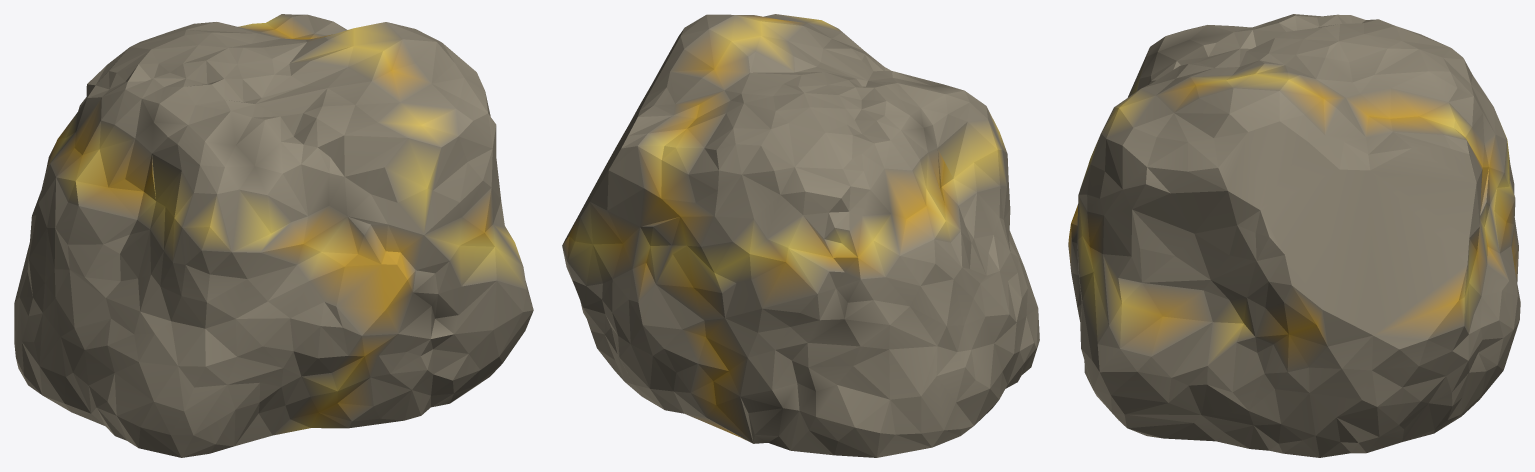
The model's file is goldore.glb.
3 views of the same model, side by side, from view 1: azimuth 30°, elevation 25°; view 2: azimuth 150°, elevation 25°; view 3: azimuth 270°, elevation 25° (orthographic). The views are drawn at different scales.
Visible parts, largest first — view 1: goldore; view 2: goldore; view 3: goldore.
Part boxes in pixels (x1=…): goldore: x1=14, y1=14, x2=533, y2=457; goldore: x1=562, y1=14, x2=1039, y2=457; goldore: x1=1068, y1=14, x2=1520, y2=457.
Bounding box in the file's own units: 0.3015 × 0.2199 × 0.2698.
